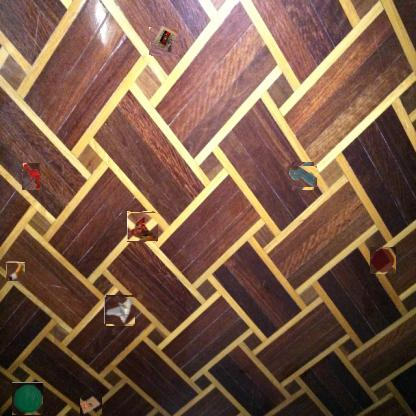dirty: (12, 382, 44, 415), (127, 211, 158, 242), (150, 26, 179, 56), (105, 296, 135, 325), (22, 162, 40, 190), (80, 394, 102, 416), (6, 262, 25, 281)
liquid: (370, 248, 396, 276), (291, 163, 315, 189)
